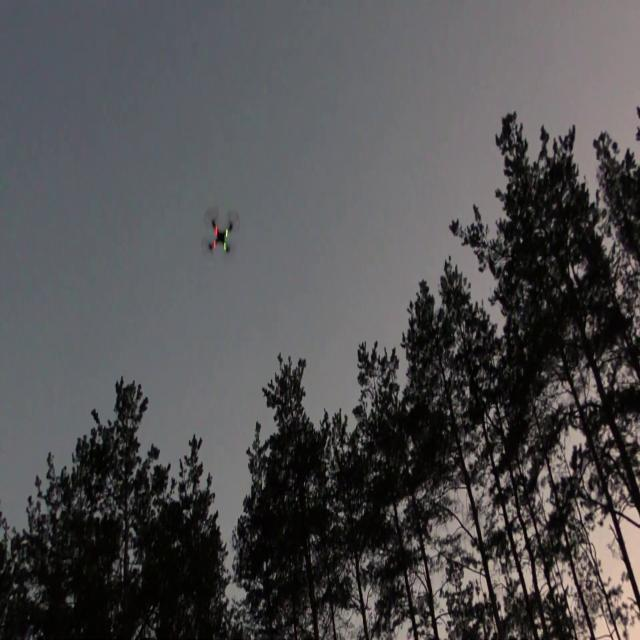Drons: (197, 206, 241, 264)
